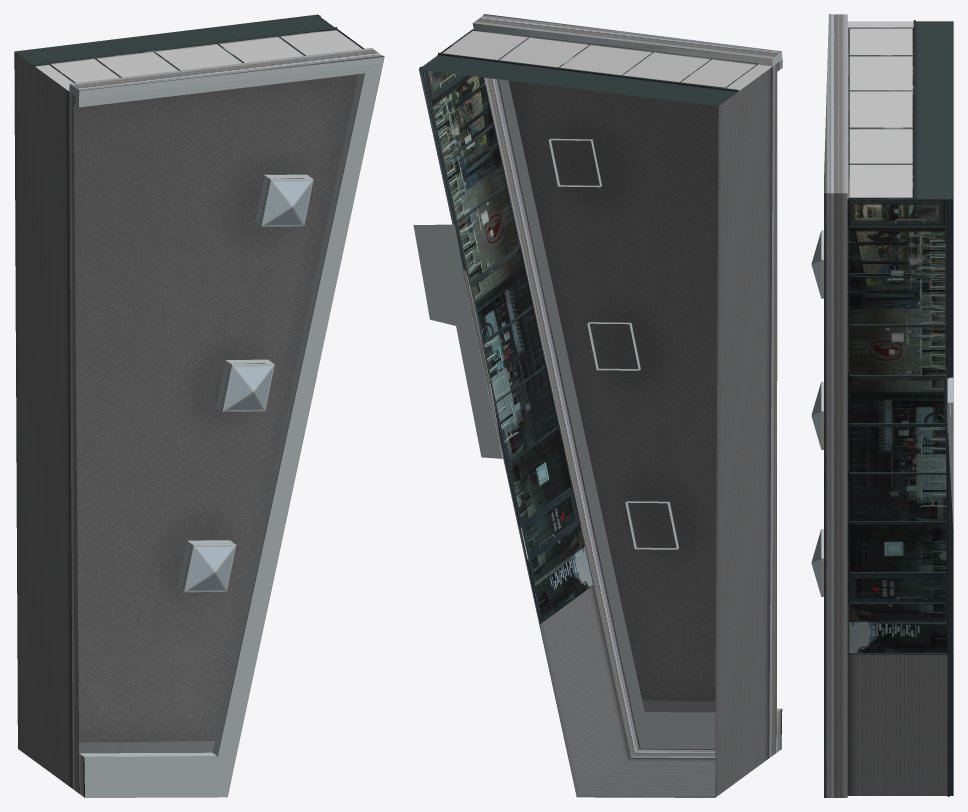
The model's file is Harju40a.obj.
3 views of the same model, side by side, from view 1: azimuth 30°, elevation 25°; view 2: azimuth 150°, elevation 25°; view 3: azimuth 270°, elevation 25° (orthographic). The views are drawn at different scales.
Visible parts, largest first — view 1: Box001, Line003, Line005; view 2: Box001, Line006, Line005, Line003; view 3: Box001, Line005, Line002, Line003, Line006.
Boxes of the visible parts, x1=… form: Box001: x1=14, y1=15, x2=384, y2=797; Line003: x1=48, y1=28, x2=364, y2=82; Line005: x1=32, y1=14, x2=337, y2=66; Box001: x1=420, y1=14, x2=782, y2=797; Line006: x1=413, y1=224, x2=502, y2=458; Line005: x1=419, y1=52, x2=738, y2=757; Line003: x1=440, y1=29, x2=759, y2=88; Box001: x1=811, y1=14, x2=953, y2=797; Line005: x1=913, y1=20, x2=953, y2=796; Line002: x1=848, y1=198, x2=947, y2=654; Line003: x1=848, y1=27, x2=913, y2=198; Line006: x1=947, y1=377, x2=953, y2=528.
Size of the model in its own units: 9.57 by 22 by 3.96.
